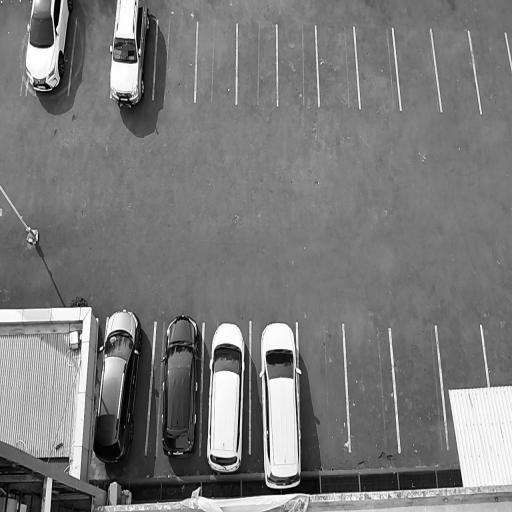Car: (91, 305, 146, 467), (255, 320, 305, 492), (156, 312, 204, 460), (204, 319, 247, 473), (107, 0, 155, 110), (22, 0, 75, 95)
Space Available: (391, 327, 448, 451), (345, 323, 399, 452), (298, 320, 350, 452), (432, 28, 480, 113), (394, 28, 440, 111), (355, 26, 401, 109), (469, 29, 512, 115), (316, 24, 360, 107), (153, 20, 196, 103), (196, 20, 237, 104), (238, 20, 278, 106), (278, 24, 319, 106), (70, 18, 111, 97), (437, 326, 489, 388), (0, 15, 27, 92), (481, 324, 512, 387)
